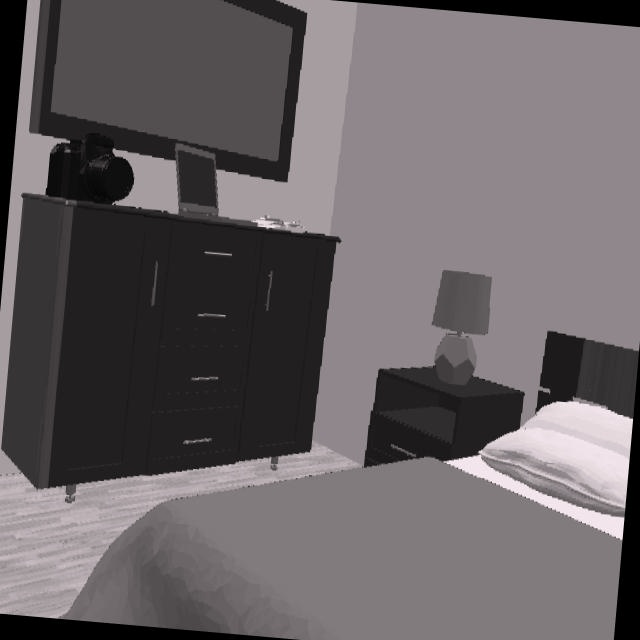bed: (62, 456, 624, 640)
book: (247, 216, 303, 233)
cabinet: (0, 193, 338, 491)
lamp: (431, 270, 492, 387)
laptop: (174, 143, 258, 227)
nighttable: (363, 366, 523, 467)
pillow: (478, 401, 633, 516)
